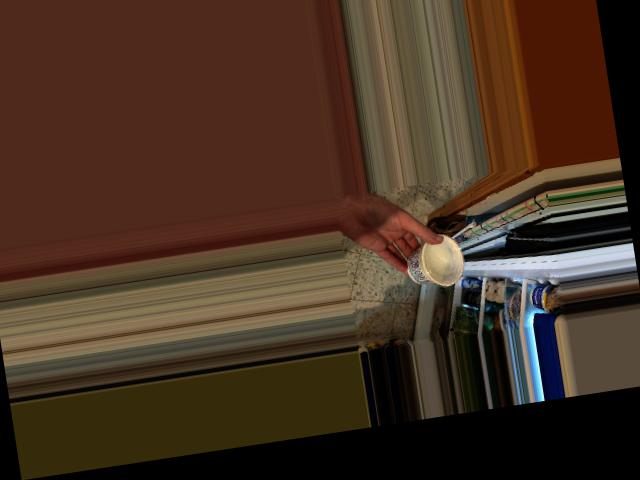cotage: (403, 237, 464, 290)
